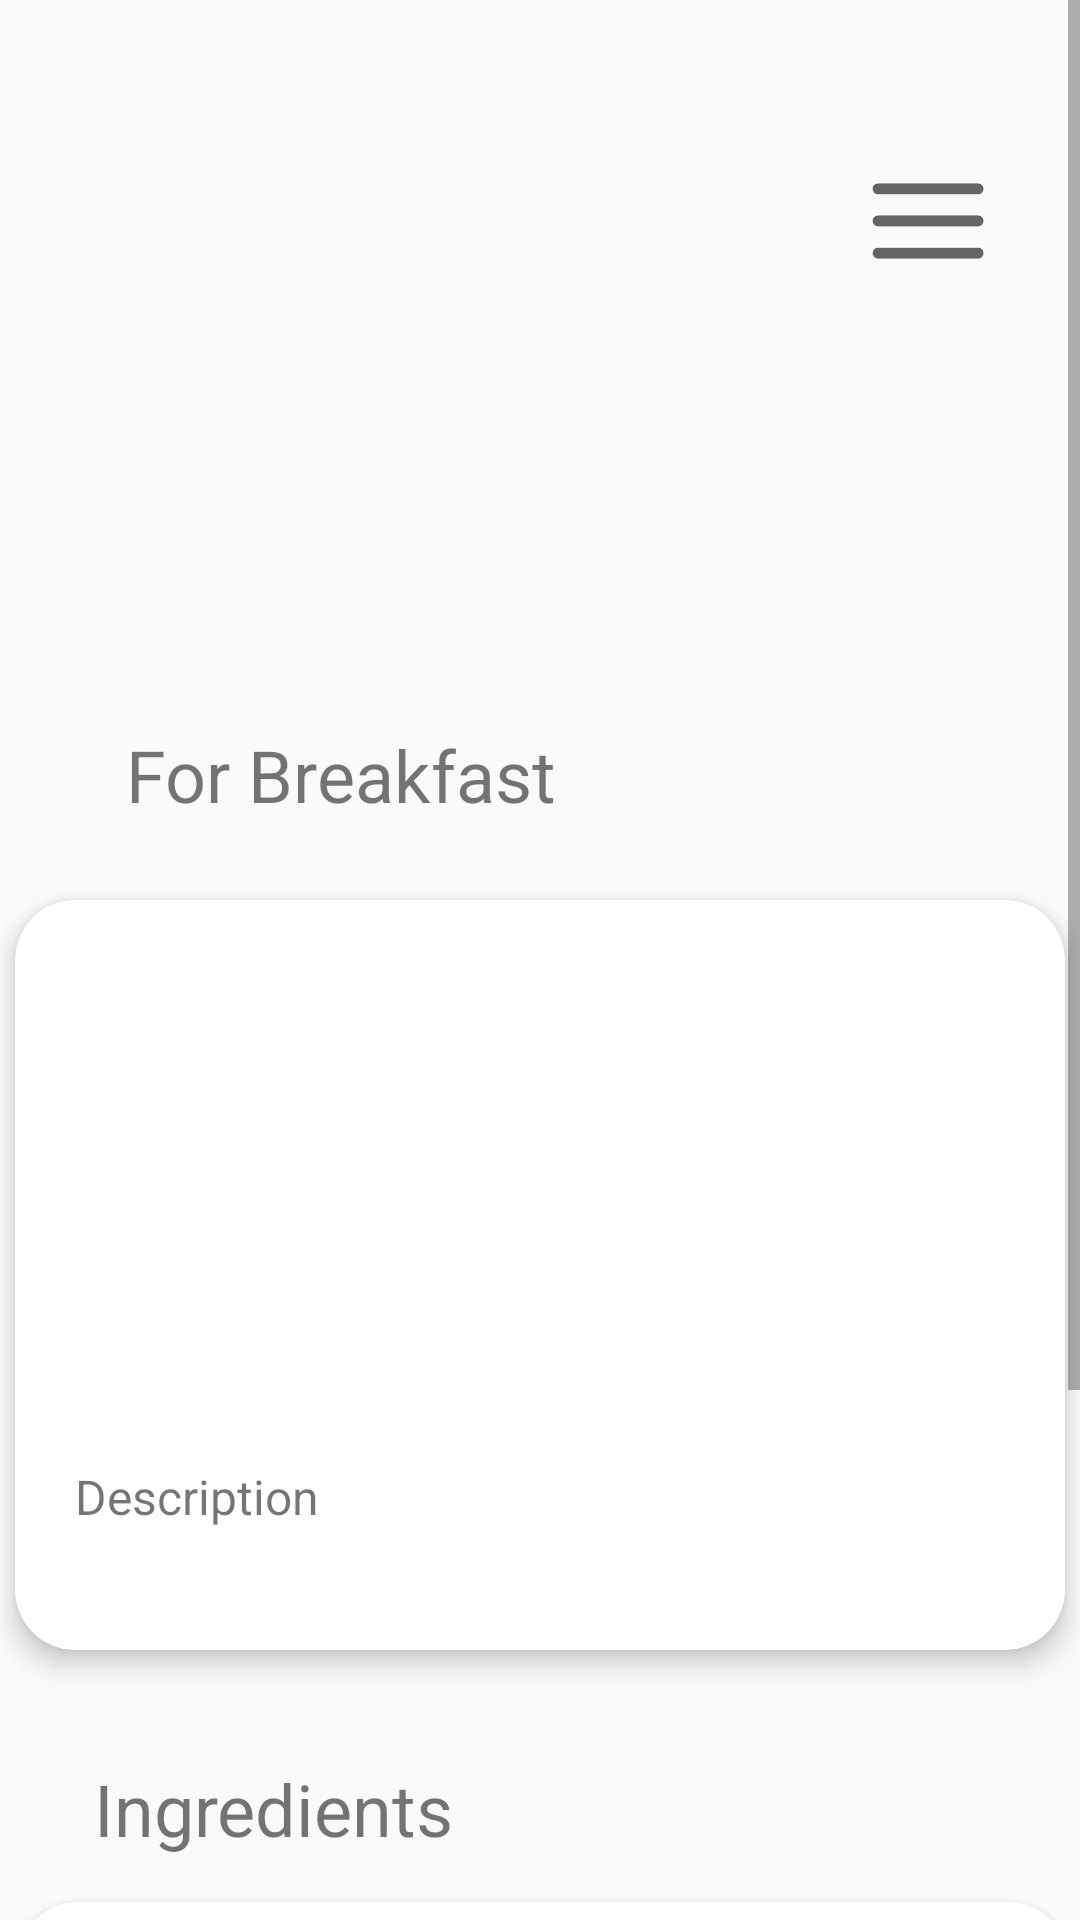

Named icons in this screenshot (1080x1920) and their bounding boxes, box(x1, y1, x2, y2):
menu: box(872, 183, 984, 259)
